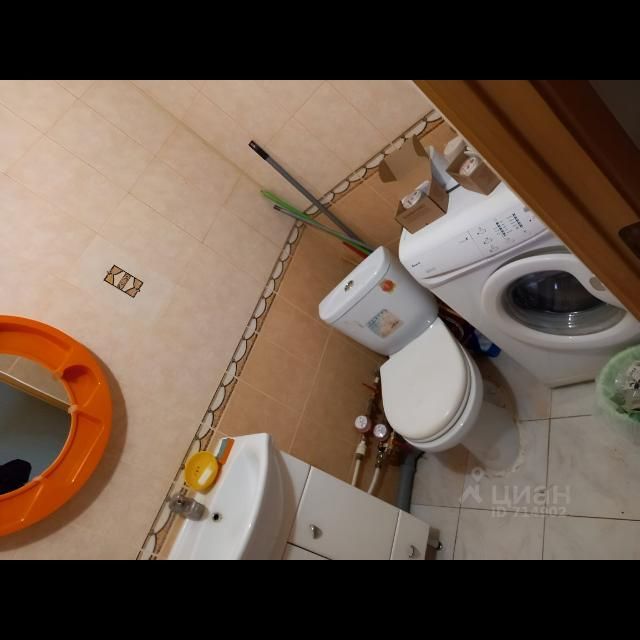Washing-Machine: (398, 173, 640, 387)
